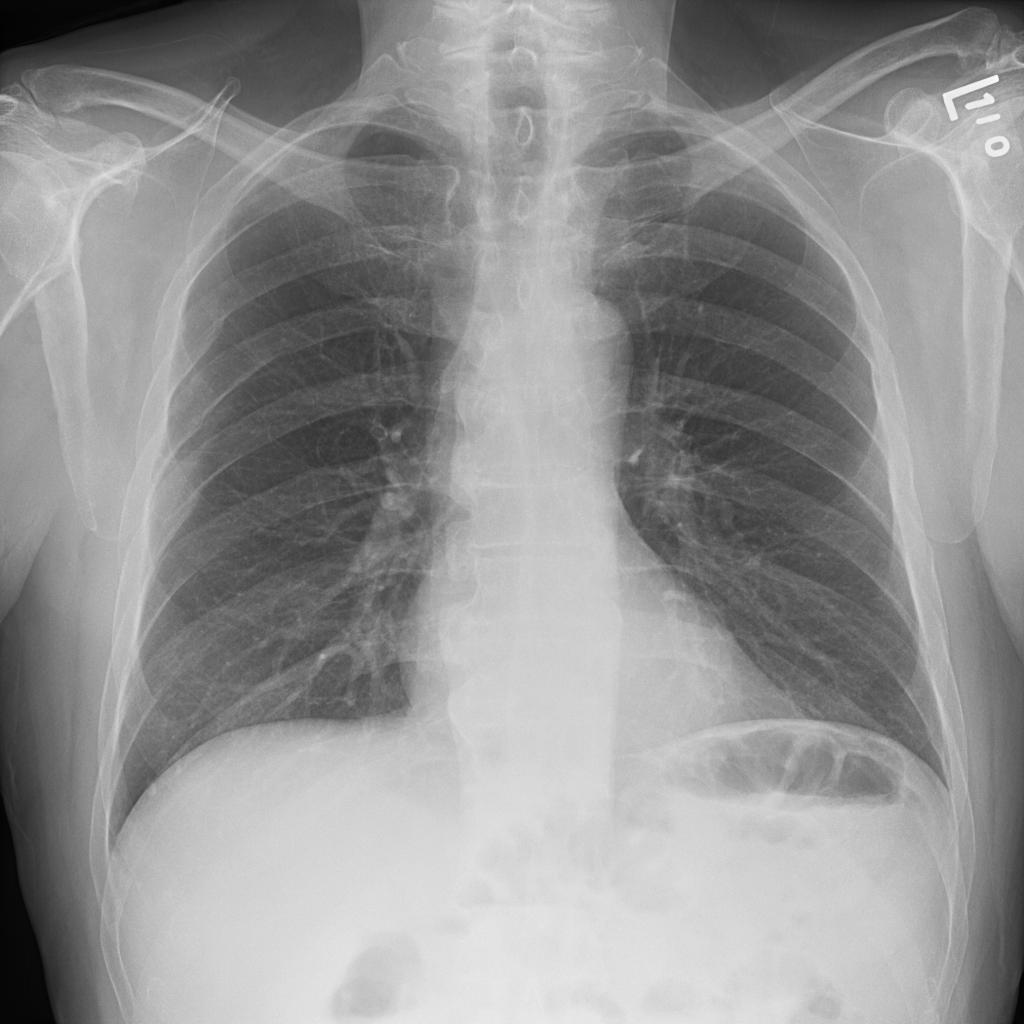Nodule: (144, 345, 174, 375), (82, 321, 108, 348)
